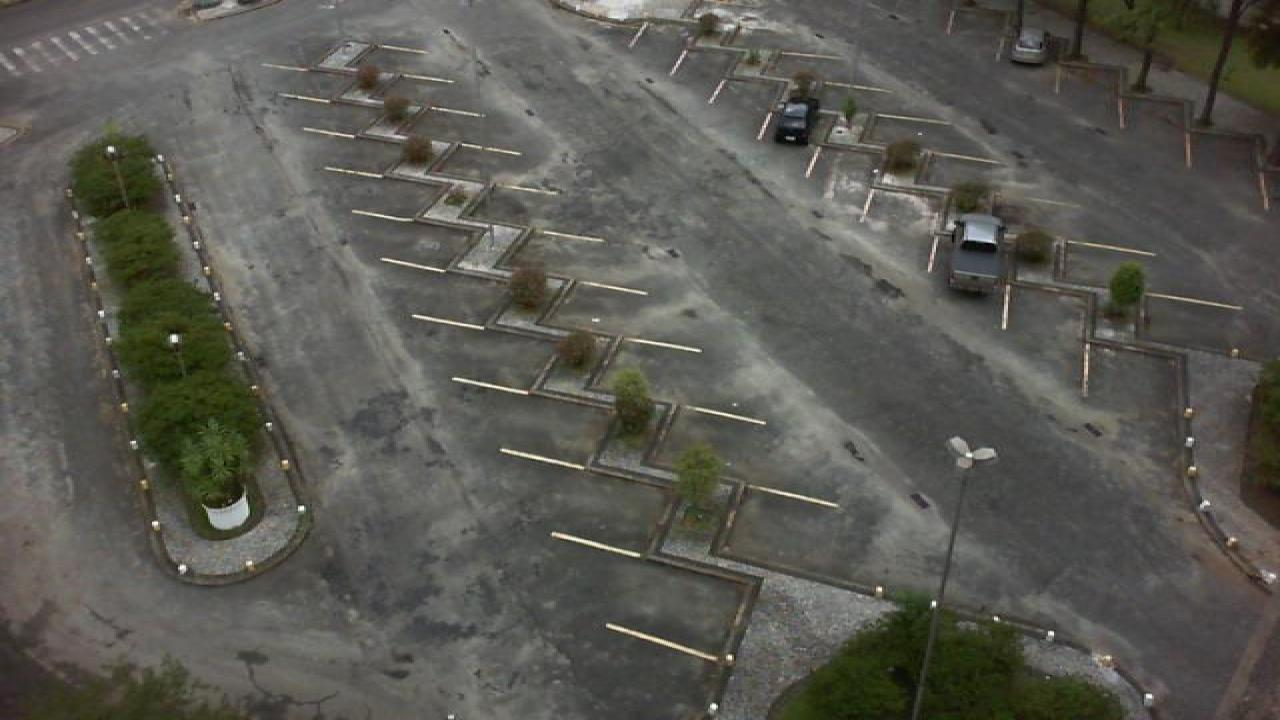Car: (942, 212, 1008, 294), (770, 98, 820, 146), (1006, 27, 1048, 65)
